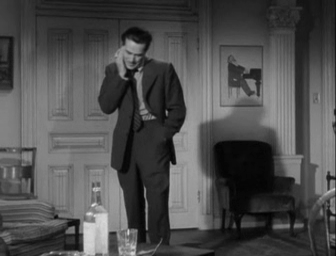face: (122, 45, 145, 69)
mls: (1, 1, 336, 256)
person: (98, 26, 187, 245)
